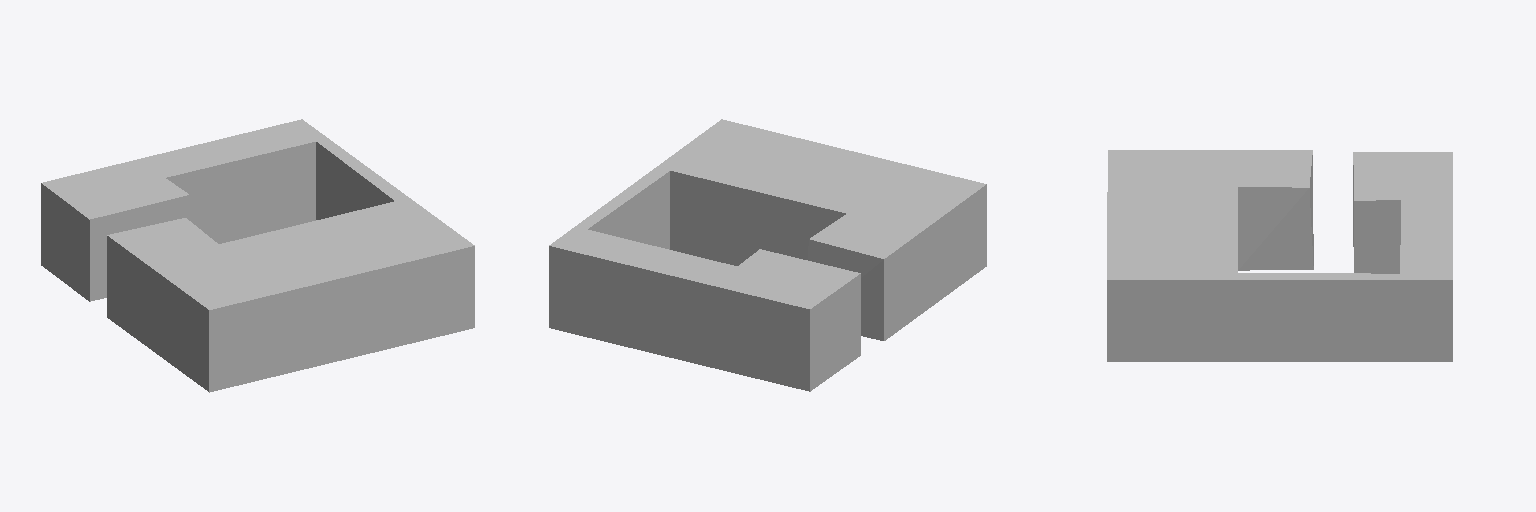
The model's file is bright_127.obj.
The picture shows the model from 3 angles: view 1: azimuth 30°, elevation 25°; view 2: azimuth 150°, elevation 25°; view 3: azimuth 270°, elevation 25°; orthographic projection.
Parts seen in each view (by area): view 1: polySurface14; view 2: polySurface14; view 3: polySurface14.
Boxes of the visible parts, x1,y1,x2,y2 form: polySurface14: [41, 119, 474, 392]; polySurface14: [549, 119, 986, 391]; polySurface14: [1107, 150, 1452, 361].
Bounding box in the file's own units: 68.63 × 20.32 × 77.47.